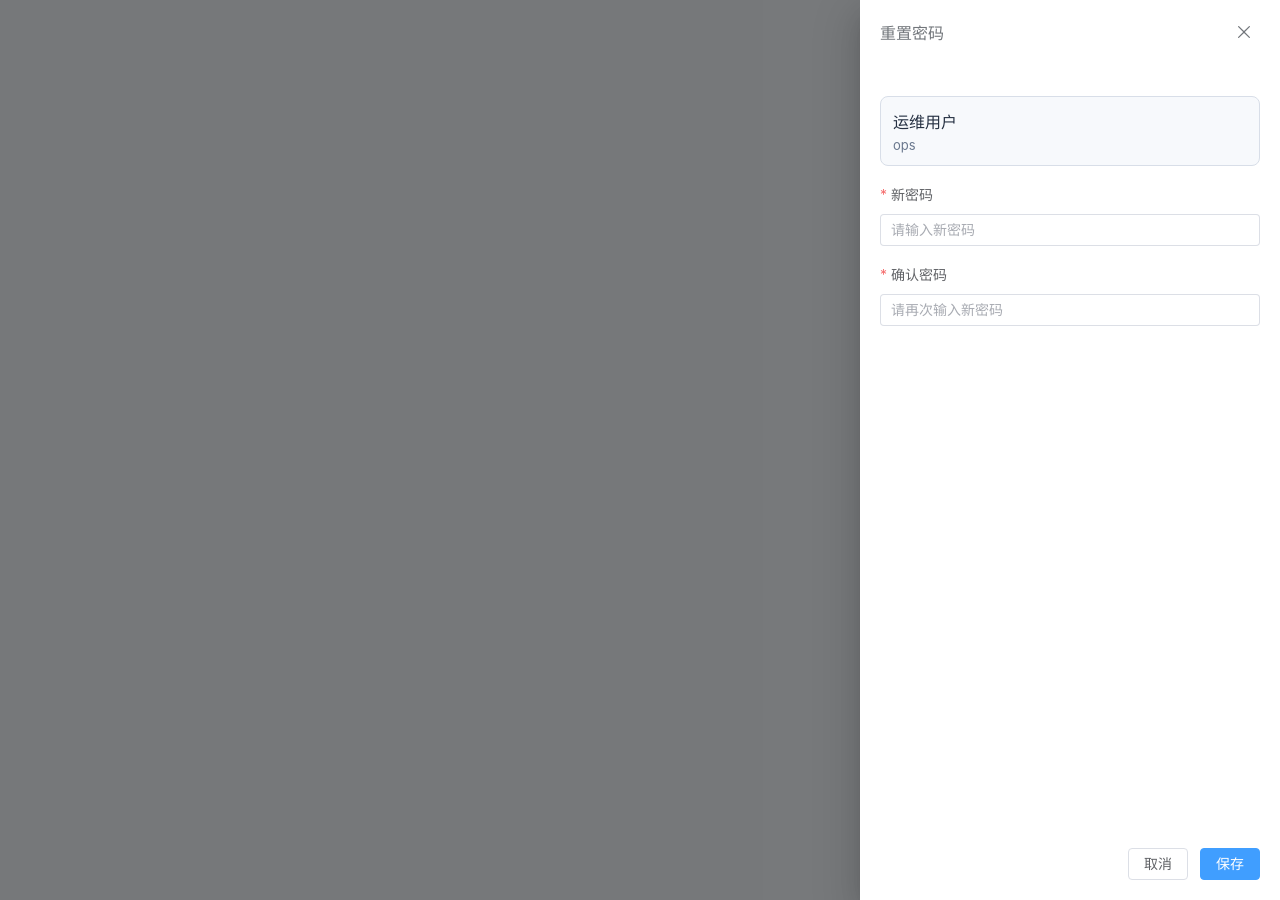
UserPasswordDrawer › validates password confirmation
In the password field with placeholder "请输入新密码": [1070, 230] box [891,215,1249,245], type "password123"
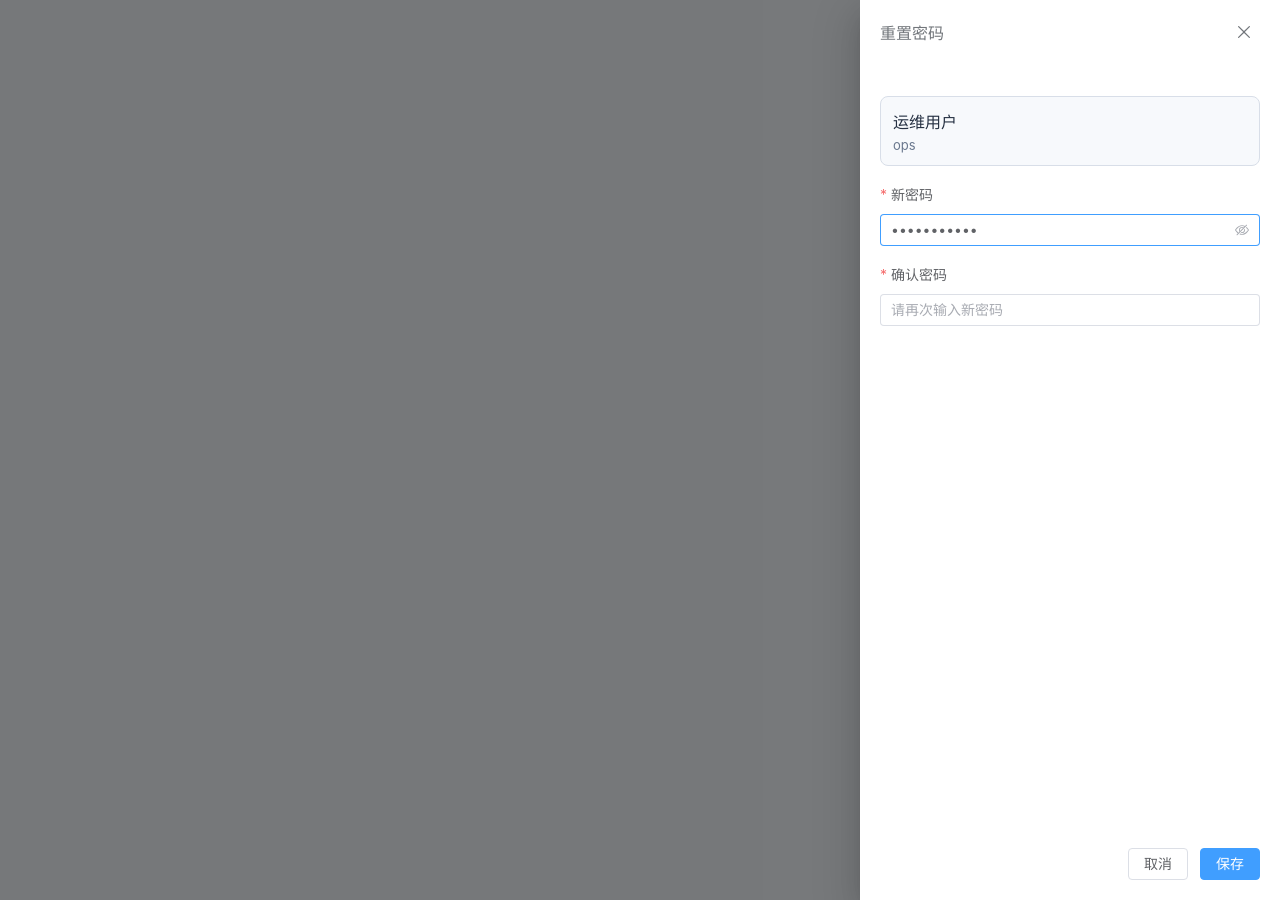
In the password field with placeholder "请再次输入新密码": [1070, 310] box [891,295,1249,325], type "password456"
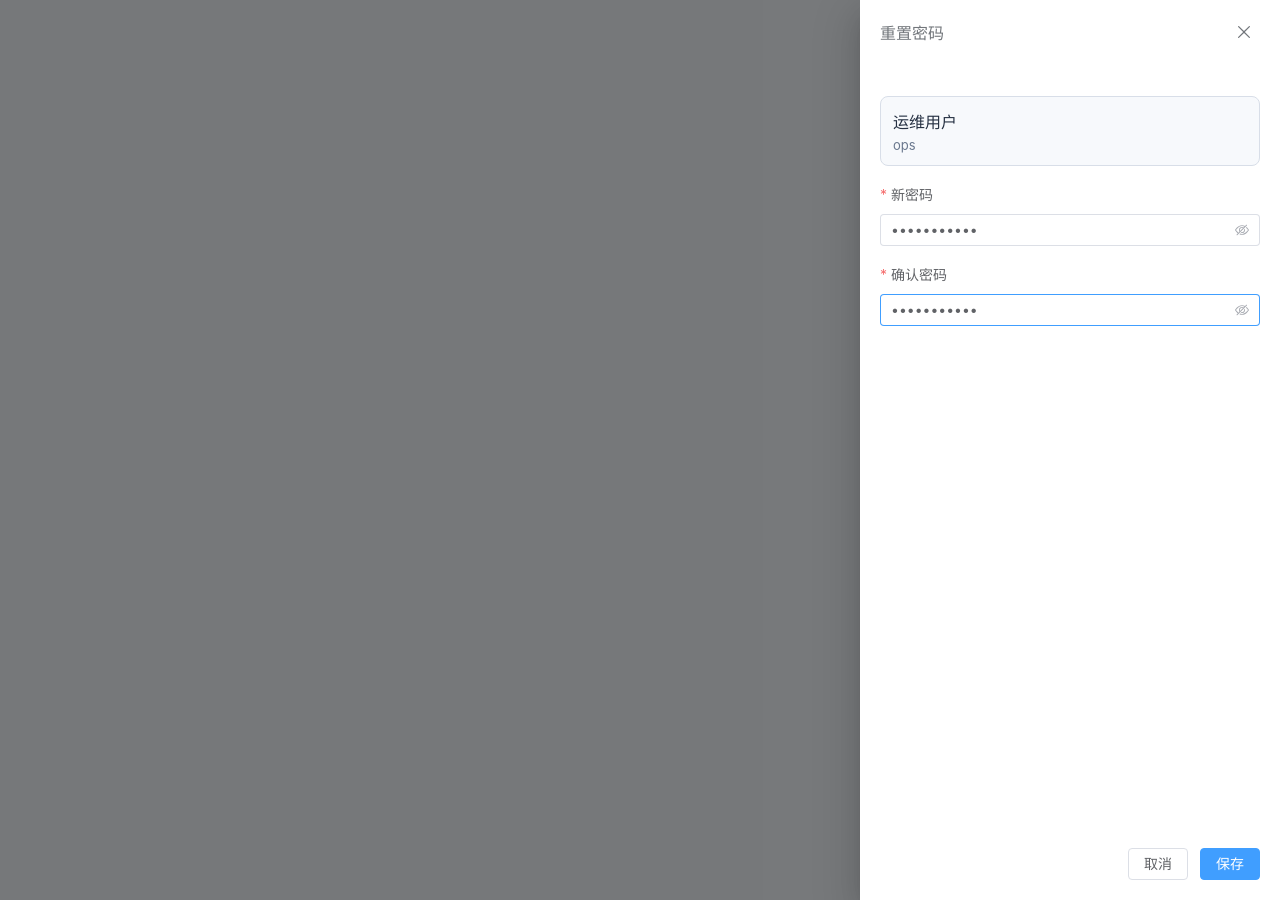
Click the button "保存": [1230, 864] box [1200,848,1260,880]
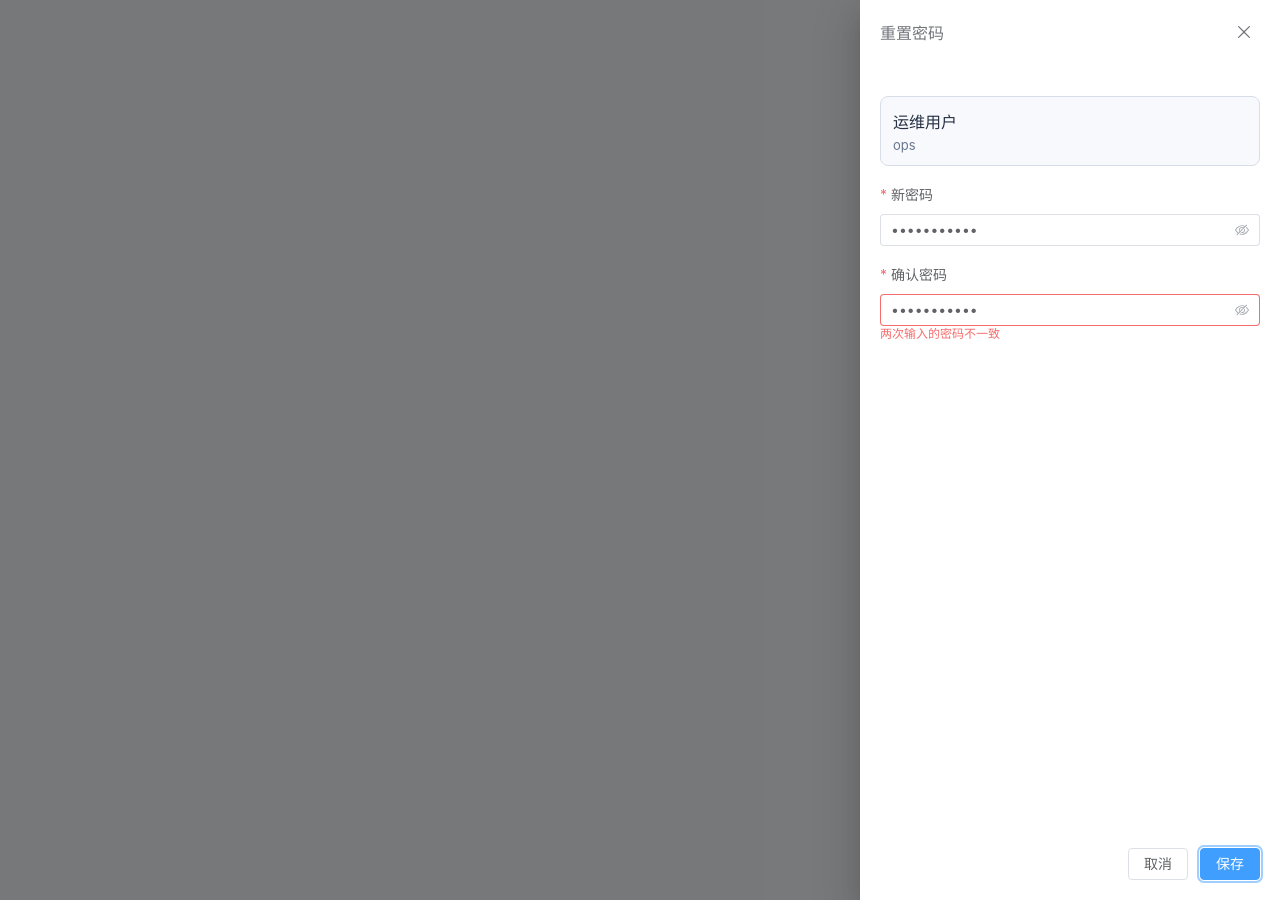
Expected: the text "两次输入的密码不一致" is shown, [880,326,1000,340]
